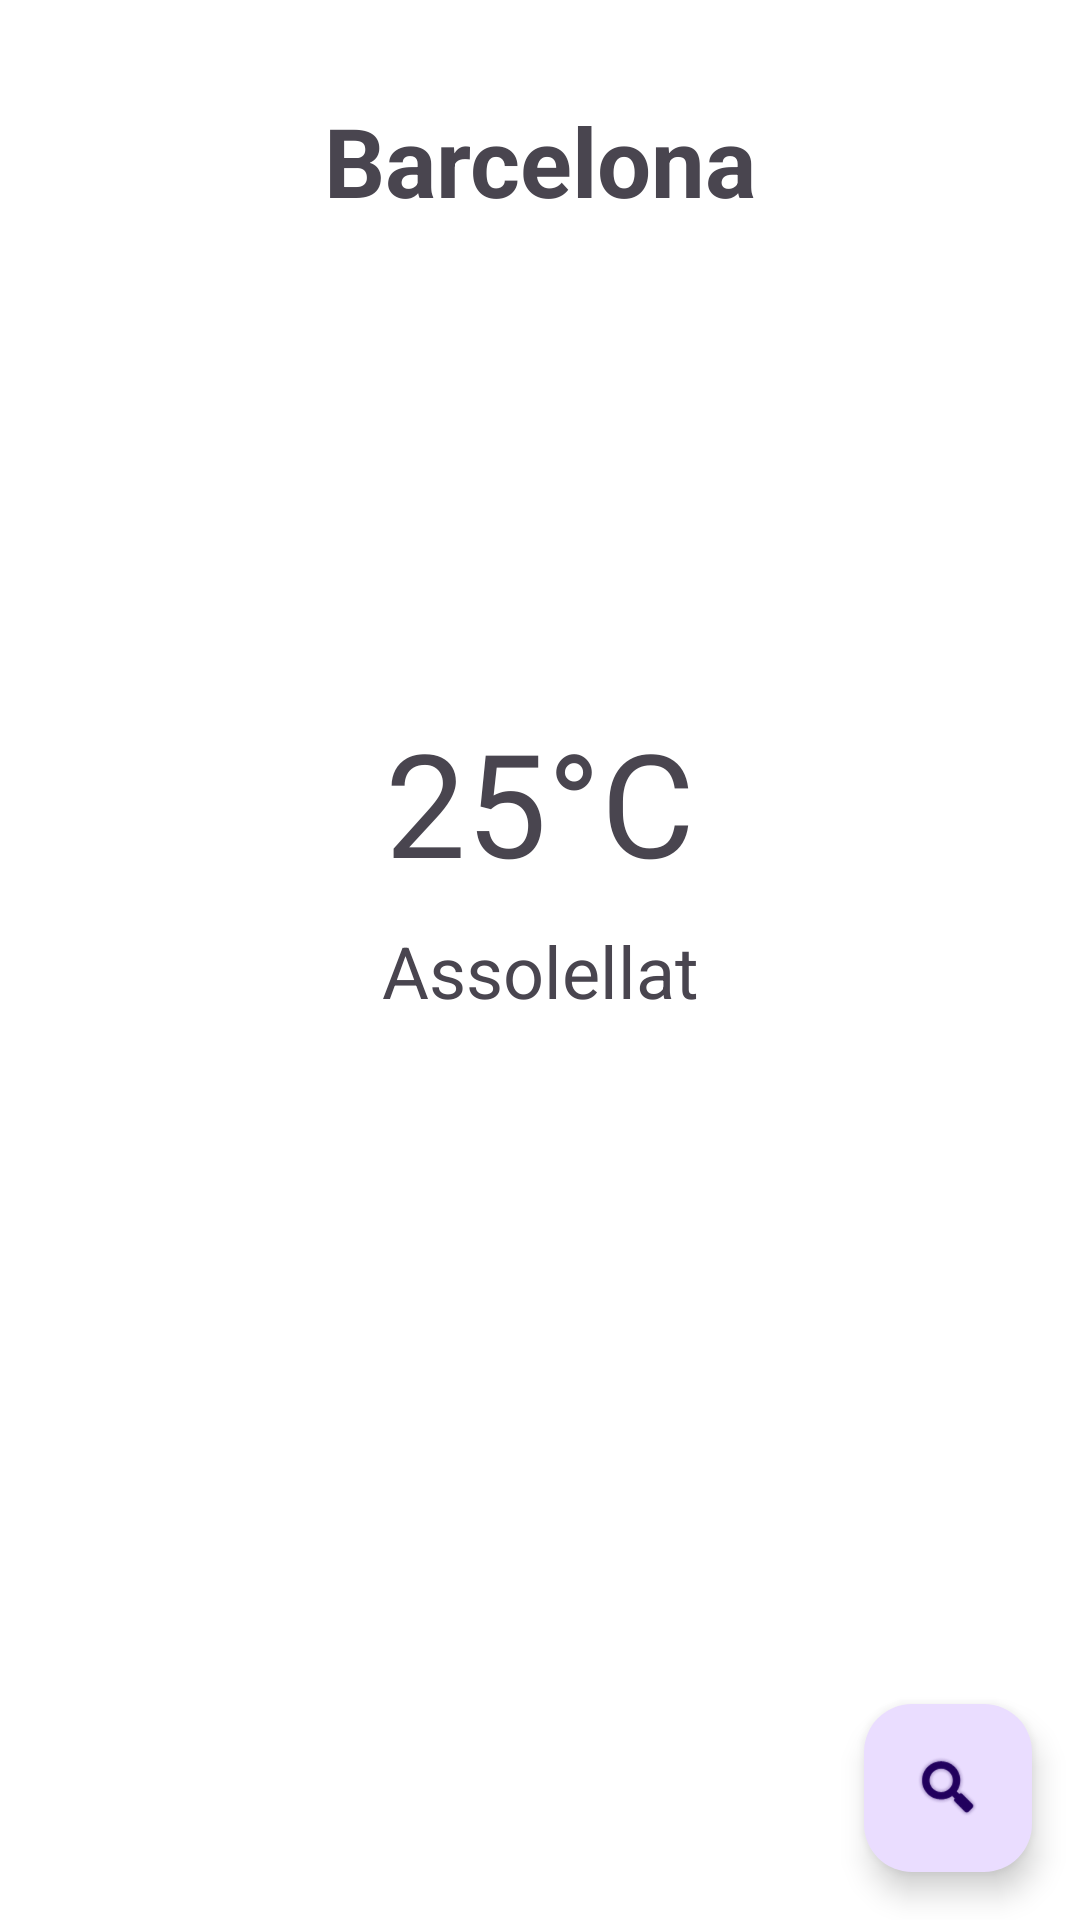

Locate icon controls on the screen. Image size 1080×1920, boxes as (x1, y1, x2, y2).
search category: (864, 1704, 1032, 1872)
